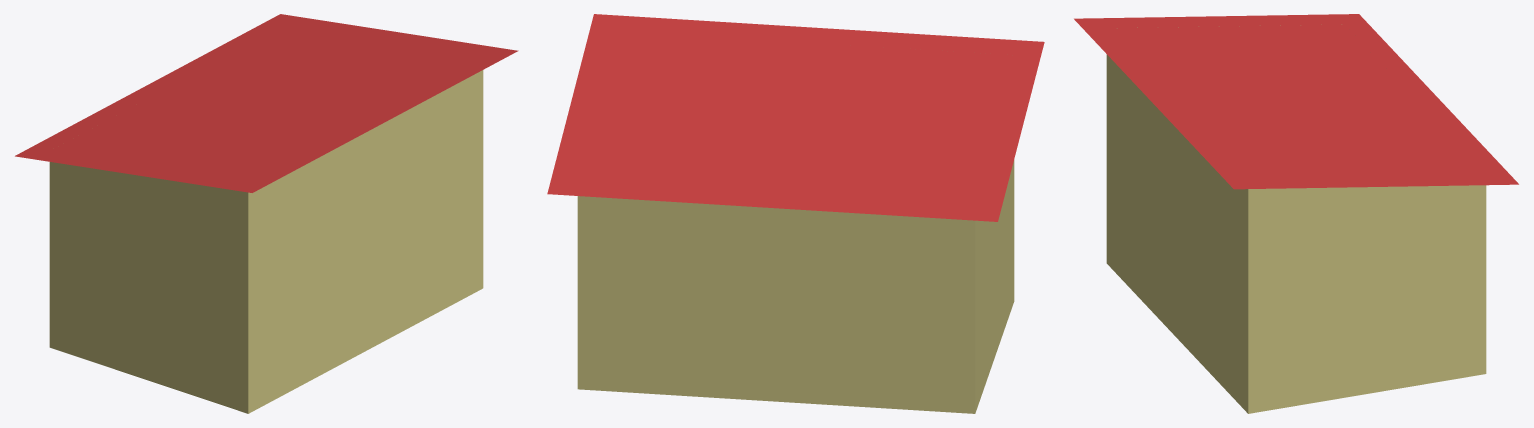
3 renders of one model, left to right at view 1: azimuth 30°, elevation 25°; view 2: azimuth 150°, elevation 25°; view 3: azimuth 270°, elevation 25°, orthographic. The views are drawn at different scales.
Bounding box in the file's own units: 15.13 × 13.05 × 7.7.
